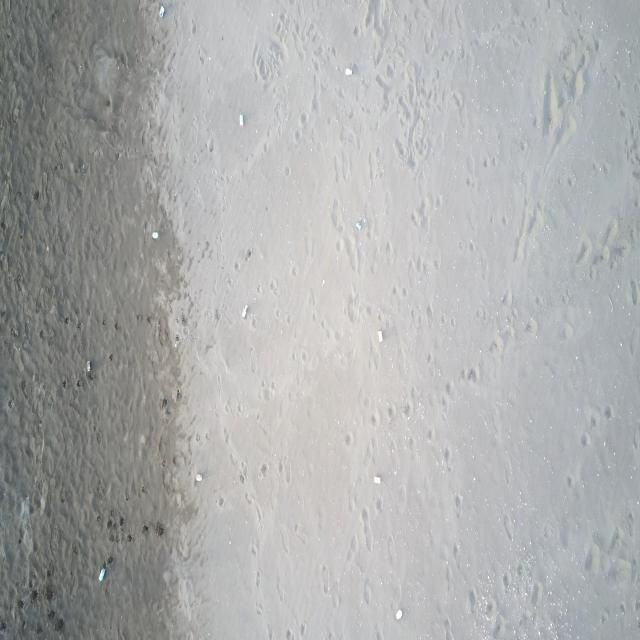tin-and-aluminum-cans: (85, 358, 93, 374), (99, 565, 106, 583), (241, 304, 249, 319), (195, 471, 203, 485), (395, 607, 403, 620), (158, 5, 165, 18), (151, 231, 160, 241), (375, 473, 383, 484), (239, 112, 244, 129), (355, 220, 362, 232), (379, 327, 384, 343), (346, 67, 354, 76)
